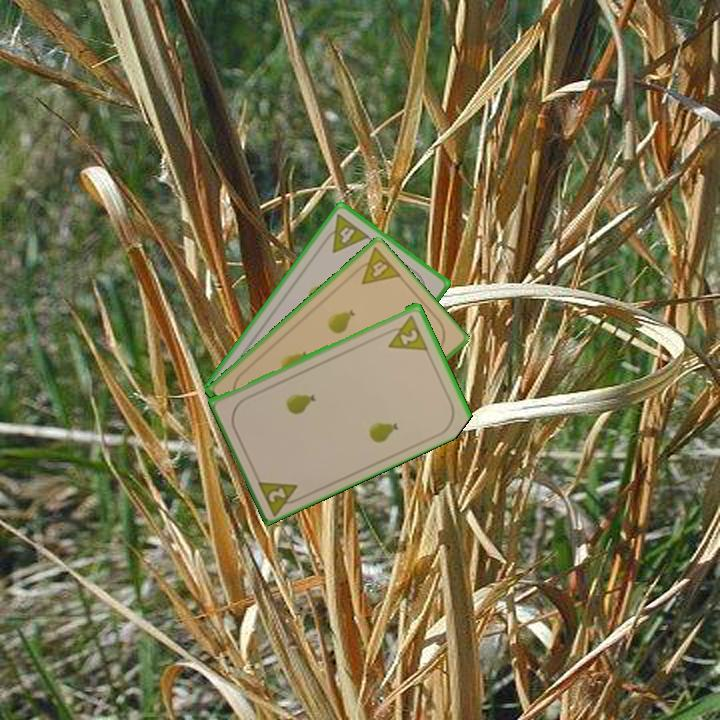2p: (253, 475, 307, 517), (397, 325, 421, 347)
4p: (318, 210, 372, 256), (348, 244, 404, 287)
